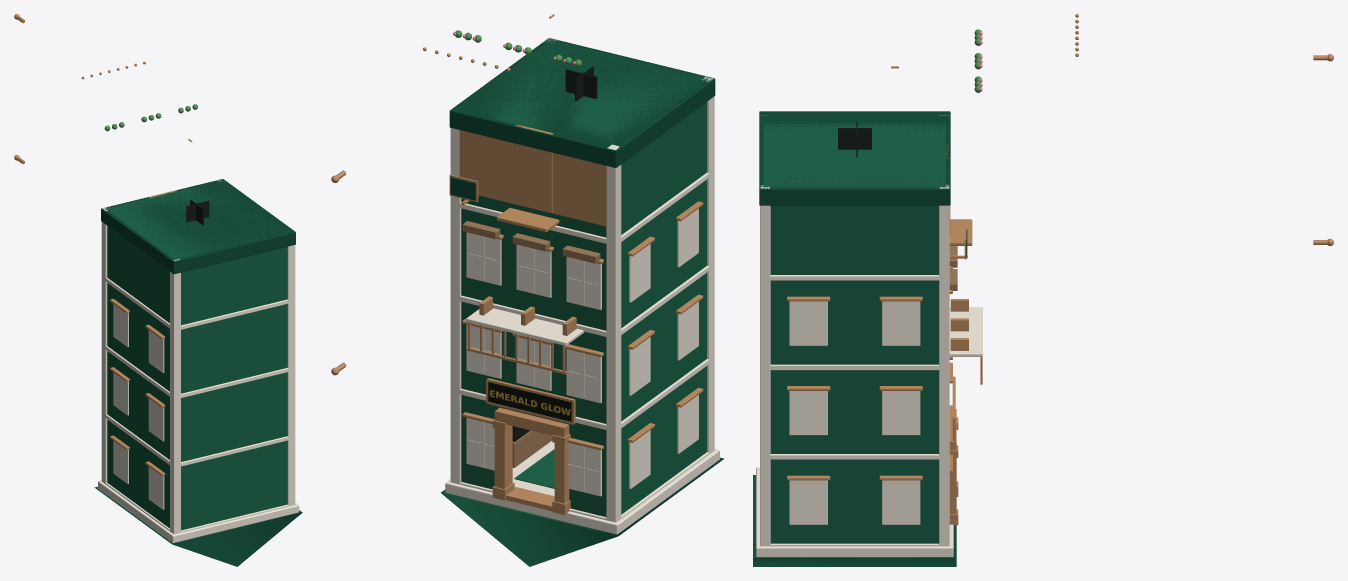
Rendered from gedung-g04-blender-v2.glb.
3 renders of one model, left to right at view 1: azimuth 30°, elevation 25°; view 2: azimuth 150°, elevation 25°; view 3: azimuth 270°, elevation 25°, orthographic. The views are drawn at different scales.
Visible parts, largest first — view 1: Badan, Balkon_Lantai, Atap, Balkon_Bola_0, Etalase_Kaca_-1.6; view 2: Badan, Balkon_Lantai, Atap, Balkon_Bola_0, Door_Trim, Shop_Sign, Etalase_Isi_-1.6, Int_Cases, Int_Rug, Etalase_Kaca_-1.6; view 3: Badan, Balkon_Lantai, Atap, Balkon_Bola_0, Door_Trim, Etalase_Kaca_-1.6.
Part boxes in pixels (<box>): Badan: <box>106,185,287,530</box>; Balkon_Lantai: <box>98,180,299,543</box>; Atap: <box>94,179,302,566</box>; Balkon_Bola_0: <box>14,14,192,475</box>; Etalase_Kaca_-1.6: <box>186,199,209,225</box>; Badan: <box>461,40,706,516</box>; Balkon_Lantai: <box>445,38,719,534</box>; Atap: <box>441,38,723,566</box>; Balkon_Bola_0: <box>331,14,703,450</box>; Door_Trim: <box>492,407,570,514</box>; Shop_Sign: <box>486,378,575,424</box>; Etalase_Isi_-1.6: <box>462,221,600,263</box>; Int_Cases: <box>512,426,552,467</box>; Int_Rug: <box>514,449,554,488</box>; Etalase_Kaca_-1.6: <box>565,66,597,101</box>; Badan: <box>763,122,945,543</box>; Balkon_Lantai: <box>756,115,982,557</box>; Atap: <box>753,111,967,566</box>; Balkon_Bola_0: <box>787,14,1333,480</box>; Door_Trim: <box>949,409,958,525</box>; Etalase_Kaca_-1.6: <box>838,122,871,157</box>.
Size of the model in its own units: 6.4 by 19.06 by 18.82.
Materials: 15 (1 with a texture image).
